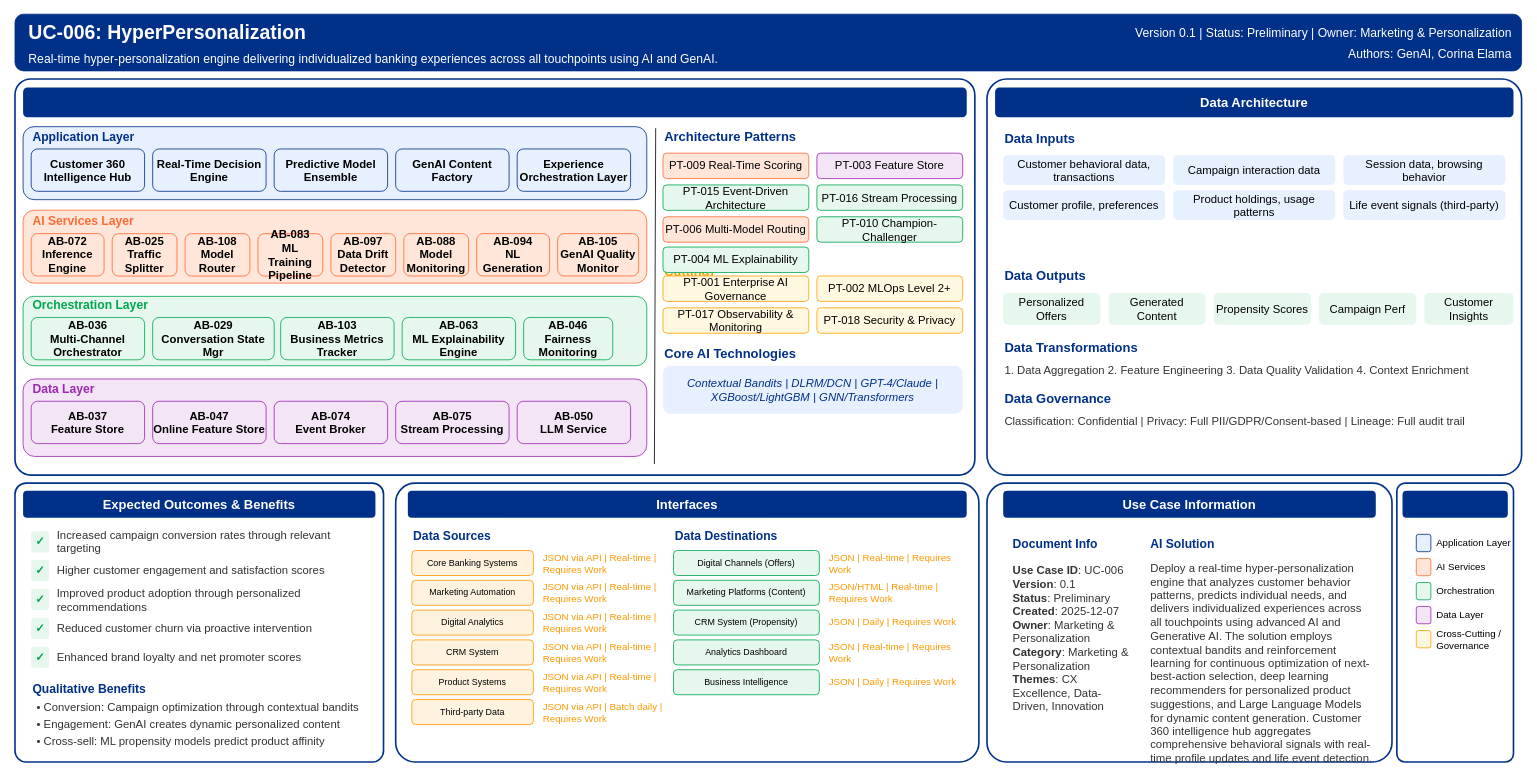
The diagram is 1537 pixels wide and 778 high, and some of its shapes have lost their labels. The centre of each missing label's shape, as x and y in pixels:
Legend: the point at 1454,503
Solution: the point at 494,102
